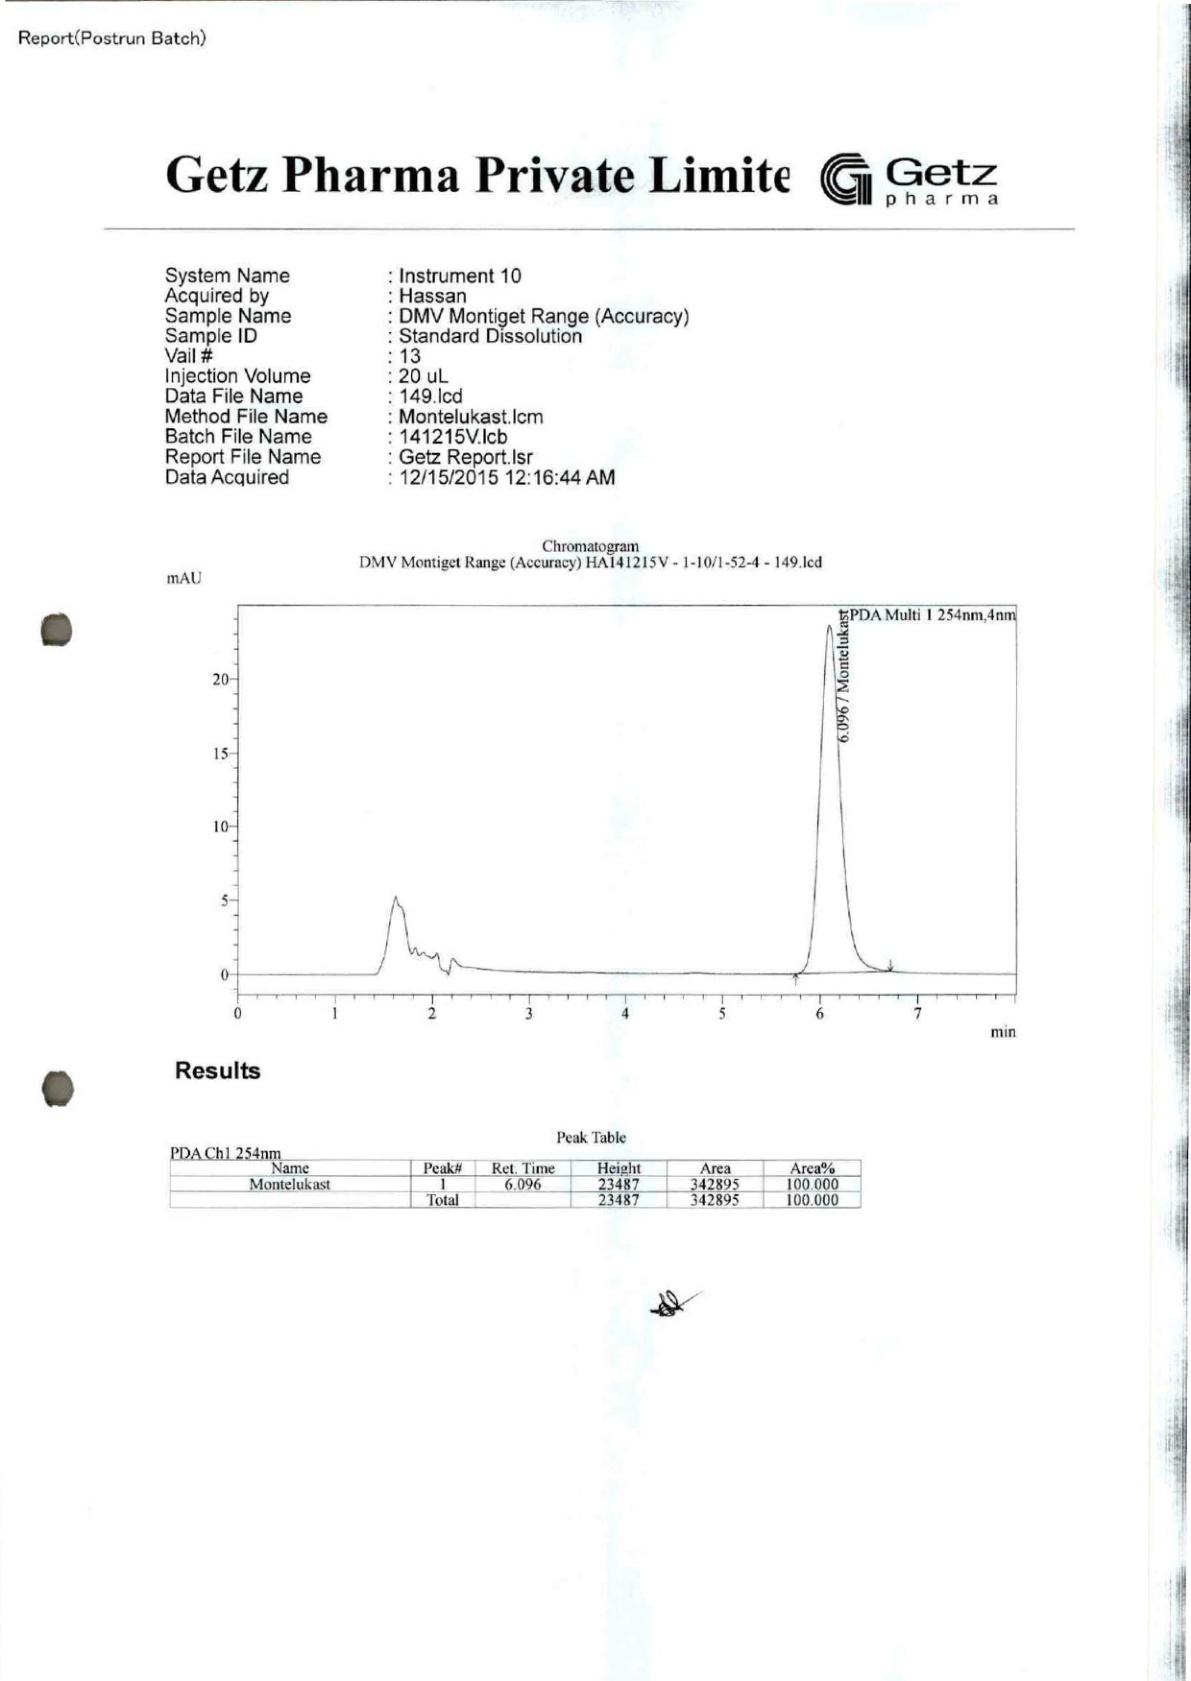full_lined: (169, 1159, 864, 1209)
nolines: (159, 263, 691, 491)
